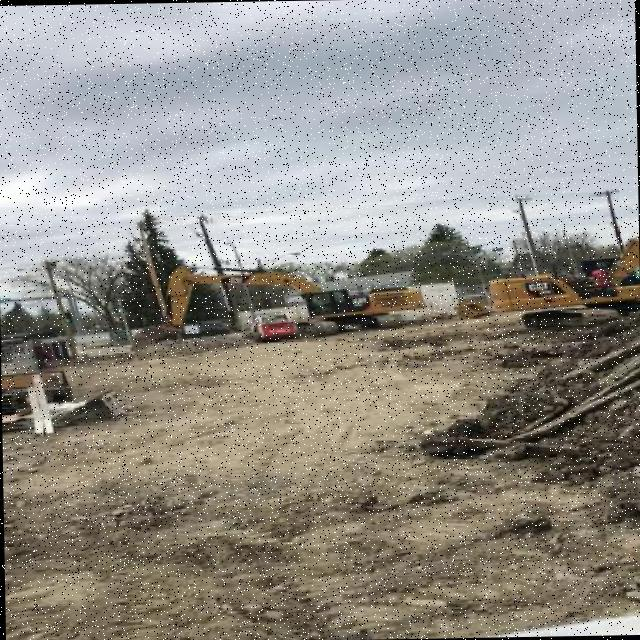Excavator: (128, 258, 422, 346), (489, 232, 635, 342)
